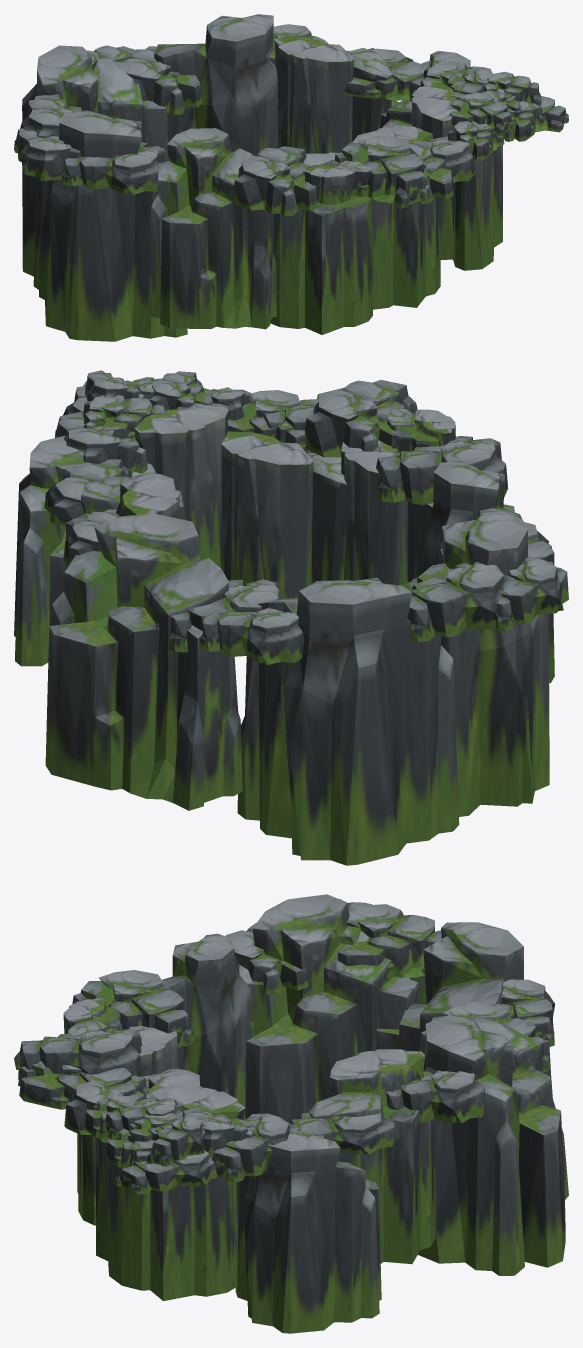
Rendered from Area08_1_y.FBX.
3 renders of one model, top to bottom at view 1: azimuth 30°, elevation 25°; view 2: azimuth 150°, elevation 25°; view 3: azimuth 270°, elevation 25°, orthographic. The views are drawn at different scales.
Visible parts, largest first — view 1: Area08_1_y; view 2: Area08_1_y; view 3: Area08_1_y.
Boxes of the visible parts, left/top/right/bottom form: Area08_1_y: left=14, top=14, right=568, bottom=341; Area08_1_y: left=14, top=370, right=568, bottom=865; Area08_1_y: left=14, top=894, right=568, bottom=1333.
Bounding box in the file's own units: 4989 × 2095 × 4342.
Materials: 1 (1 with a texture image).
